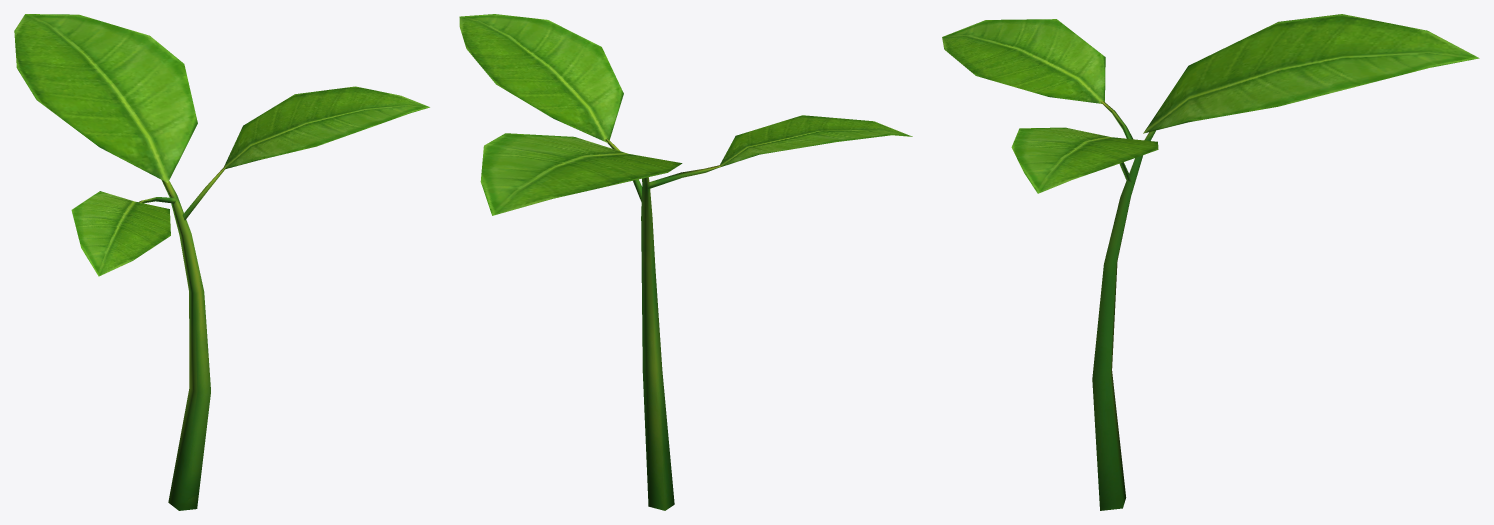
Rendered from flower_01.fbx.
3 renders of one model, left to right at view 1: azimuth 30°, elevation 25°; view 2: azimuth 150°, elevation 25°; view 3: azimuth 270°, elevation 25°, orthographic. The views are drawn at different scales.
Visible parts, largest first — view 1: flower_01; view 2: flower_01; view 3: flower_01.
Part boxes in pixels (box(x1,y1,x2,y2)): flower_01: box(14, 14, 429, 510); flower_01: box(459, 14, 912, 510); flower_01: box(942, 14, 1479, 510).
Bounding box in the file's own units: 1.42 × 1.41 × 1.51.
